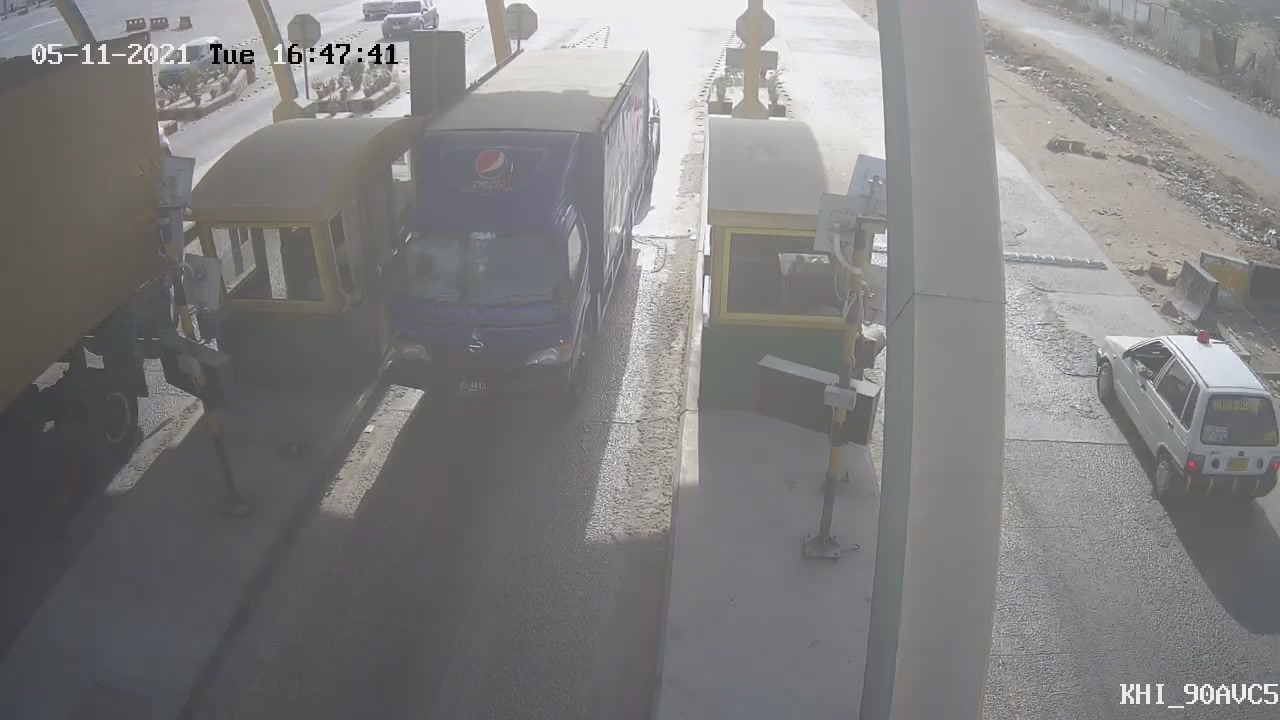F5: (327, 20, 689, 422)
